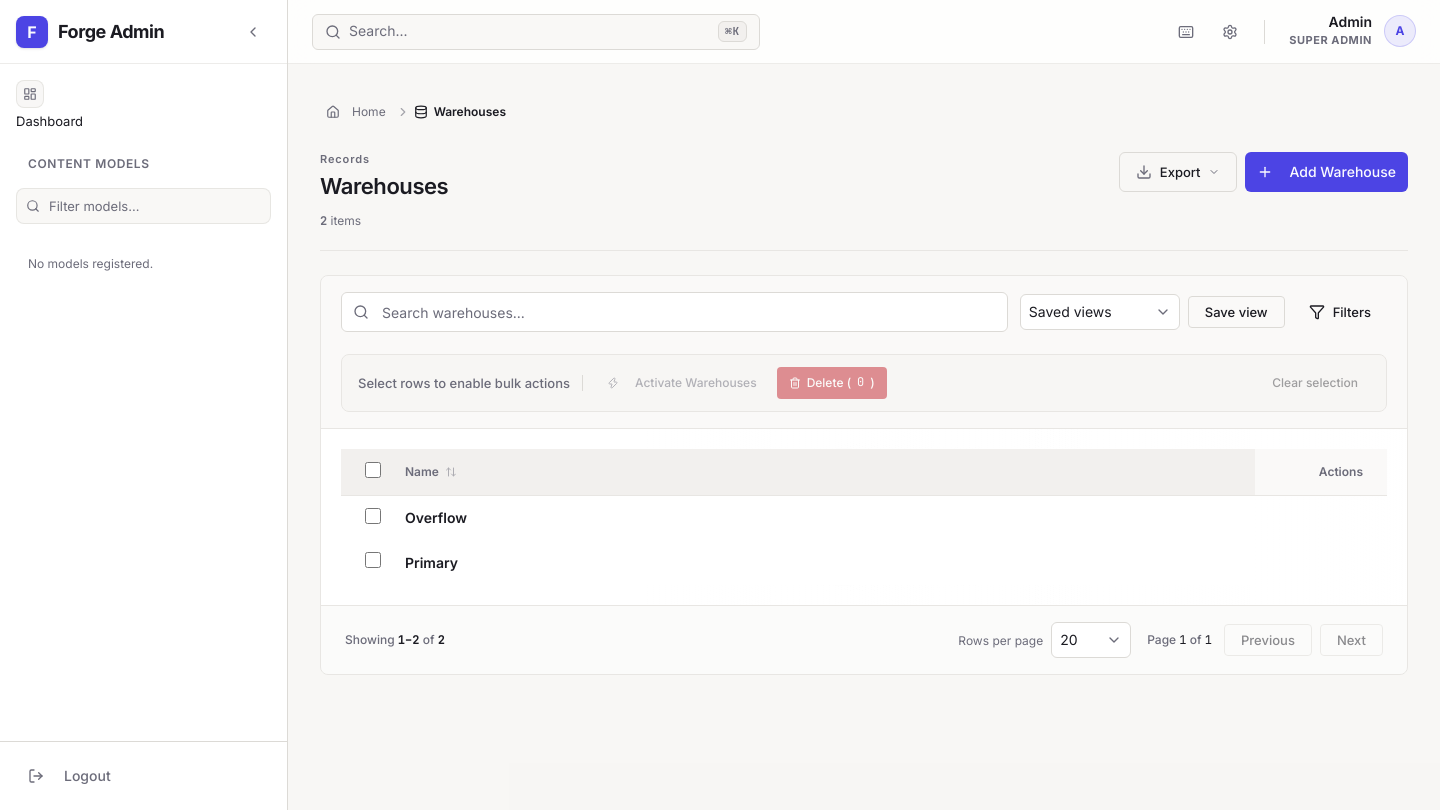
ModelListPage bulk action feedback › reports each skipped record when an action partially succeeds
Step 1. Click the checkbox with test id "select-all" → (373, 470), box [365,462,381,478]
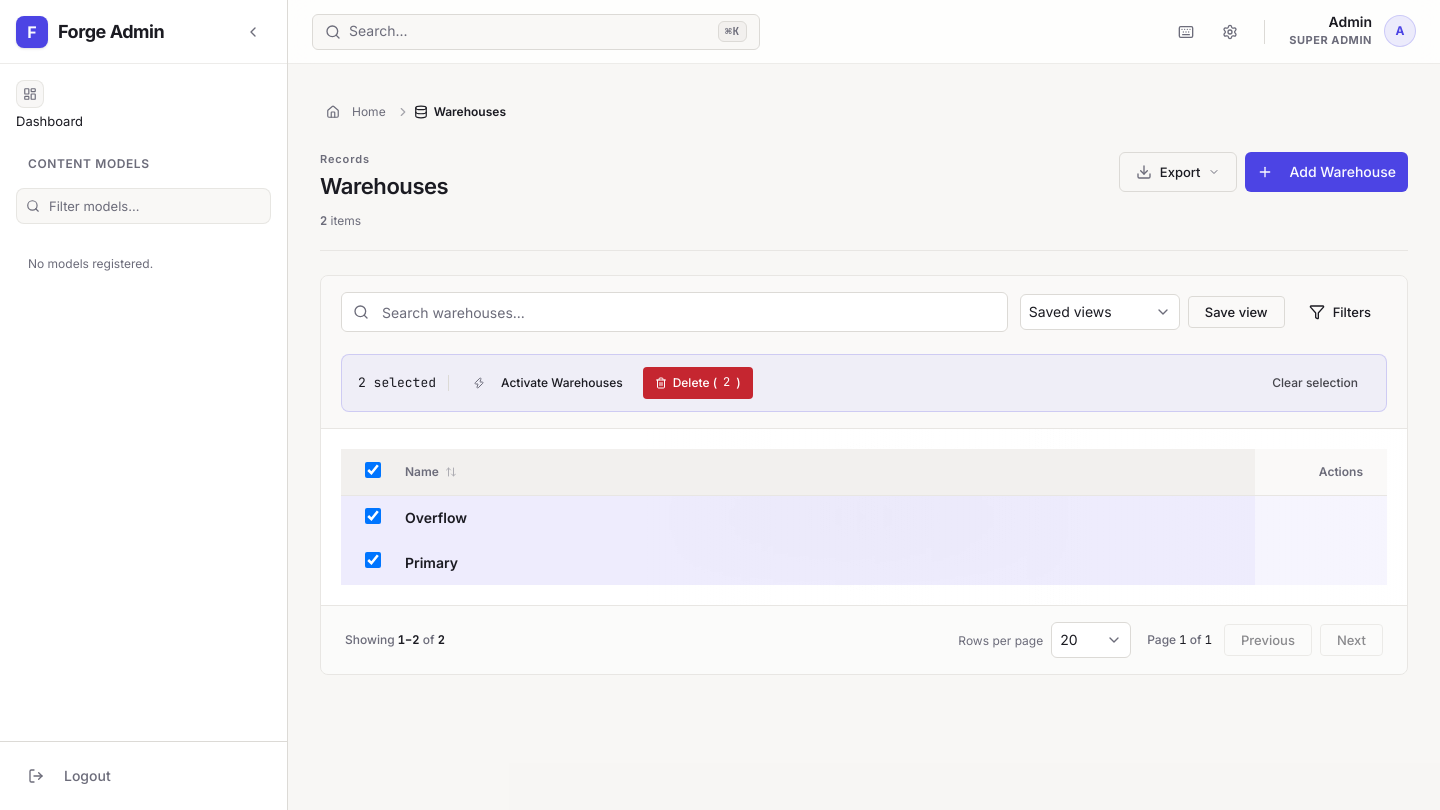
Step 2. Click the button with test id "bulk-action-activate" → (548, 383), box [461,367,635,399]
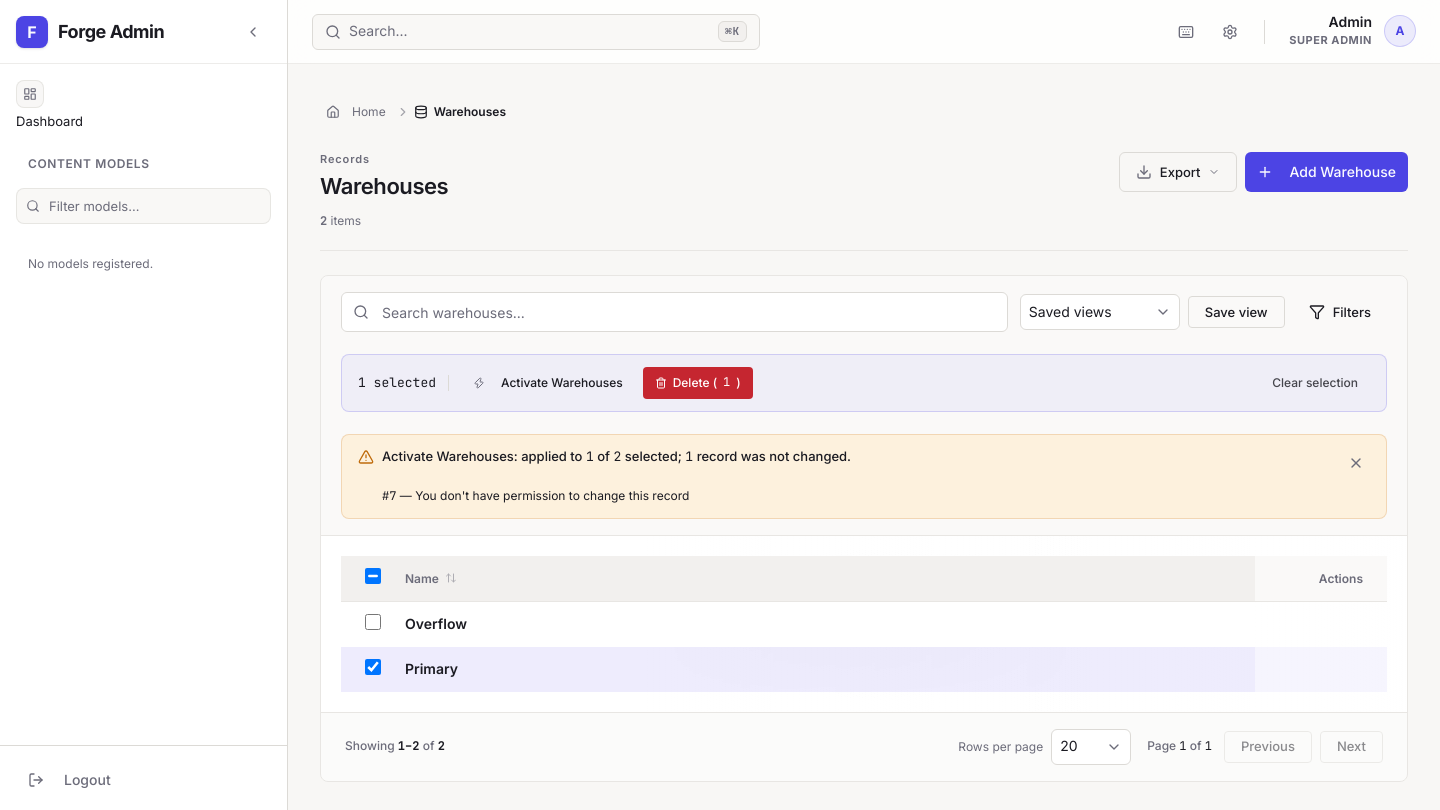
Result: the message with test id "bulk-result" shows "Activate Warehouses: applied to 1 of 2 selected" at [341,434,1387,519]
Result: the list item with test id "bulk-result-item-7" reads "#7 — You don't have permission to change this record" at [382,488,689,504]
Result: the text "1 selected" is shown at [358,374,436,391]
